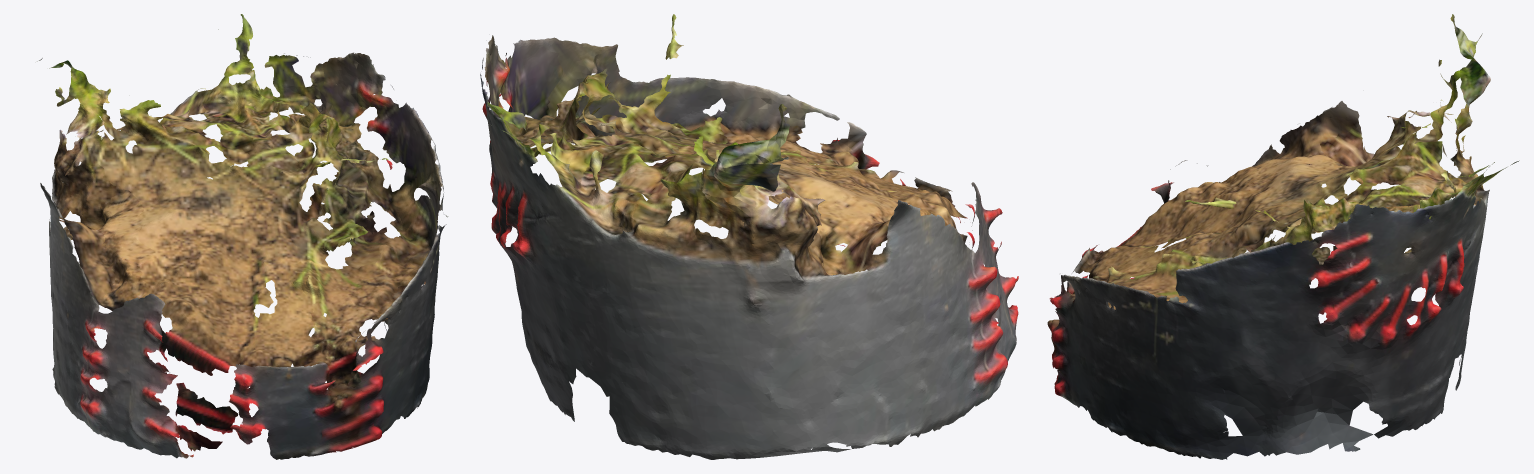
Rendered from tuerstopper-zugeschnitten.glb.
3 renders of one model, left to right at view 1: azimuth 30°, elevation 25°; view 2: azimuth 150°, elevation 25°; view 3: azimuth 270°, elevation 25°, orthographic. The views are drawn at different scales.
Visible parts, largest first — view 1: mesh; view 2: mesh; view 3: mesh.
Part boxes in pixels (<box>): mesh: <box>37,14,448,459</box>; mesh: <box>480,14,1018,459</box>; mesh: <box>1047,14,1519,459</box>.
Size of the model in its own units: 0.2392 by 0.1878 by 0.2565.
Materials: 1 (1 with a texture image).
